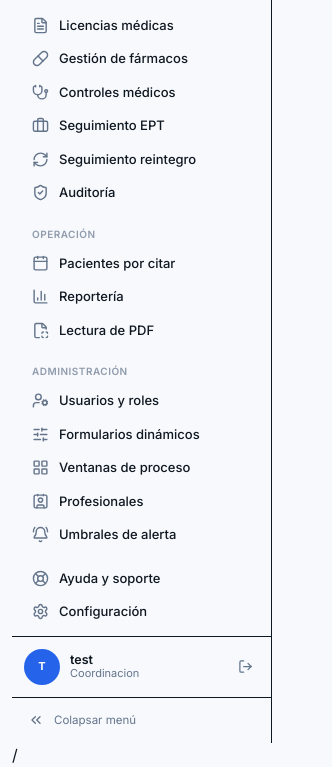
Test case: Sidebar · ayuda y configuración › 'Configuración' lleva a /configuracion (colapsado: false)
(page scrolled)
Click the link "Configuración" at (90, 612), box [32,603,147,620]
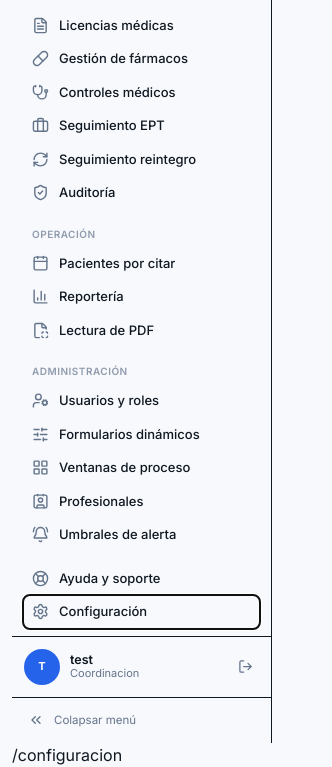
Expected: the text with test id "ubicacion" reads "/configuracion", [12,745,122,765]
